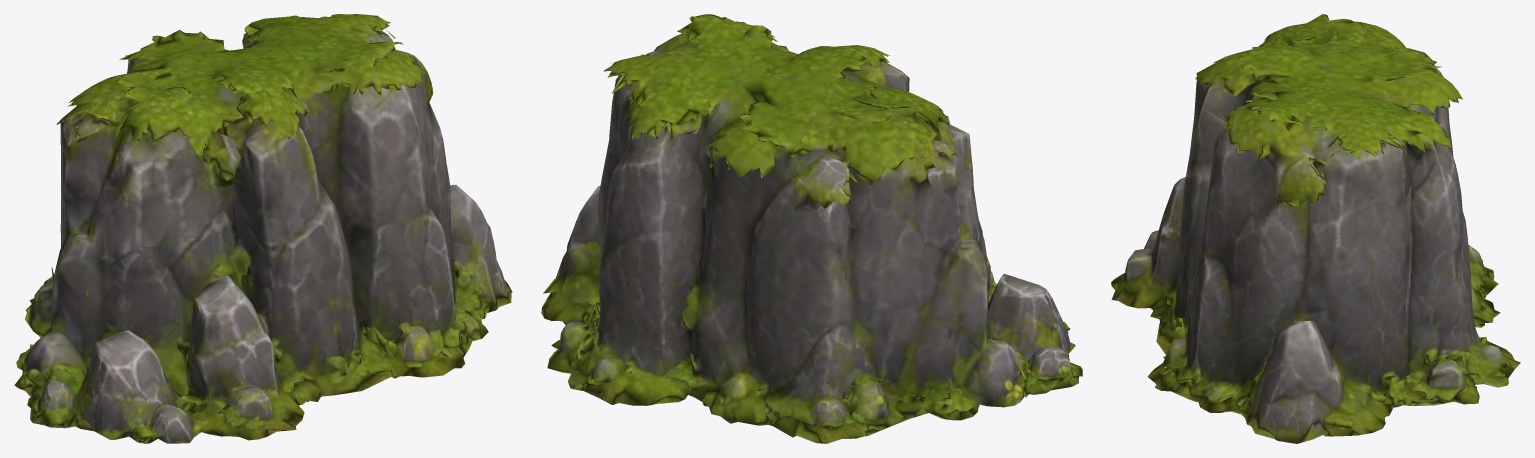
Rendered from plateau_moss.glb.
3 renders of one model, left to right at view 1: azimuth 30°, elevation 25°; view 2: azimuth 150°, elevation 25°; view 3: azimuth 270°, elevation 25°, orthographic. The views are drawn at different scales.
Bounding box in the file's own units: 1.9 × 1.03 × 1.42.
Materials: 1 (1 with a texture image).
